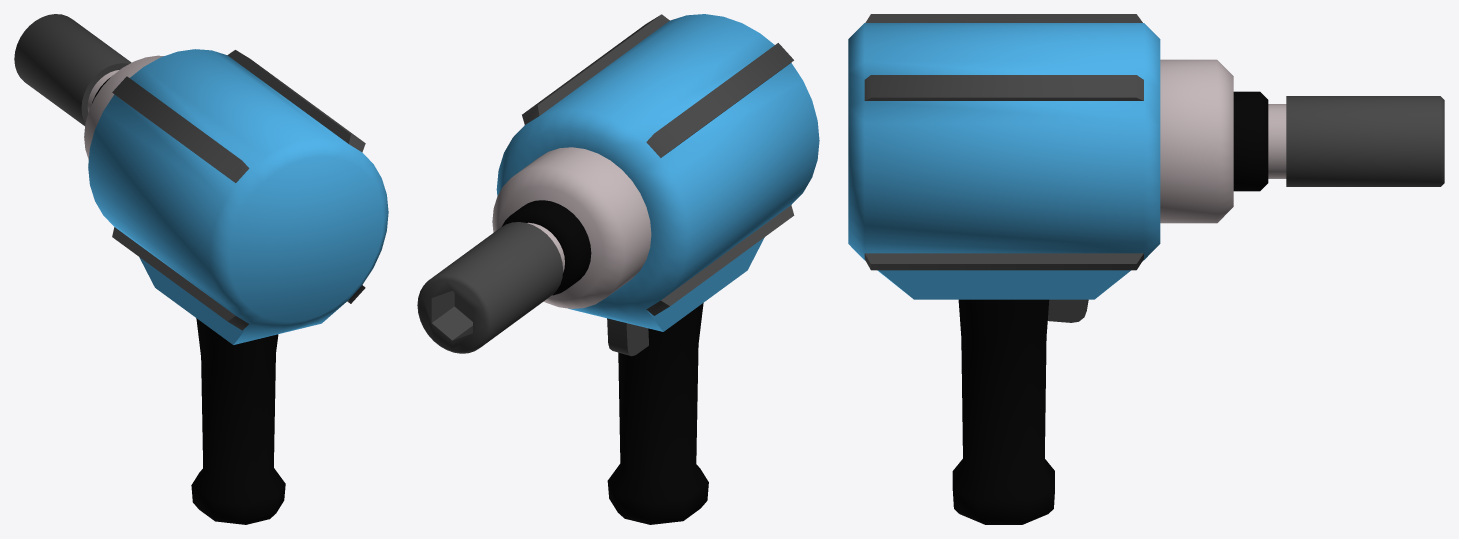
Rendered from Screwdriver.fbx.
3 views of the same model, side by side, from view 1: azimuth 30°, elevation 25°; view 2: azimuth 150°, elevation 25°; view 3: azimuth 270°, elevation 25° (orthographic). The views are drawn at different scales.
Parts seen in each view (by area): view 1: Body, Head; view 2: Body, Head, Trigger; view 3: Body, Head, Trigger.
Boxes of the visible parts, x1,y1,x2,y2 form: Body: (84,49,388,524); Head: (14,14,131,125); Body: (492,14,819,524); Head: (417,200,591,353); Trigger: (607,318,648,356); Body: (848,14,1233,524); Head: (1233,91,1444,191); Trigger: (1047,299,1088,322).
Bounding box in the file's own units: 11.78 × 25.91 × 29.59.
